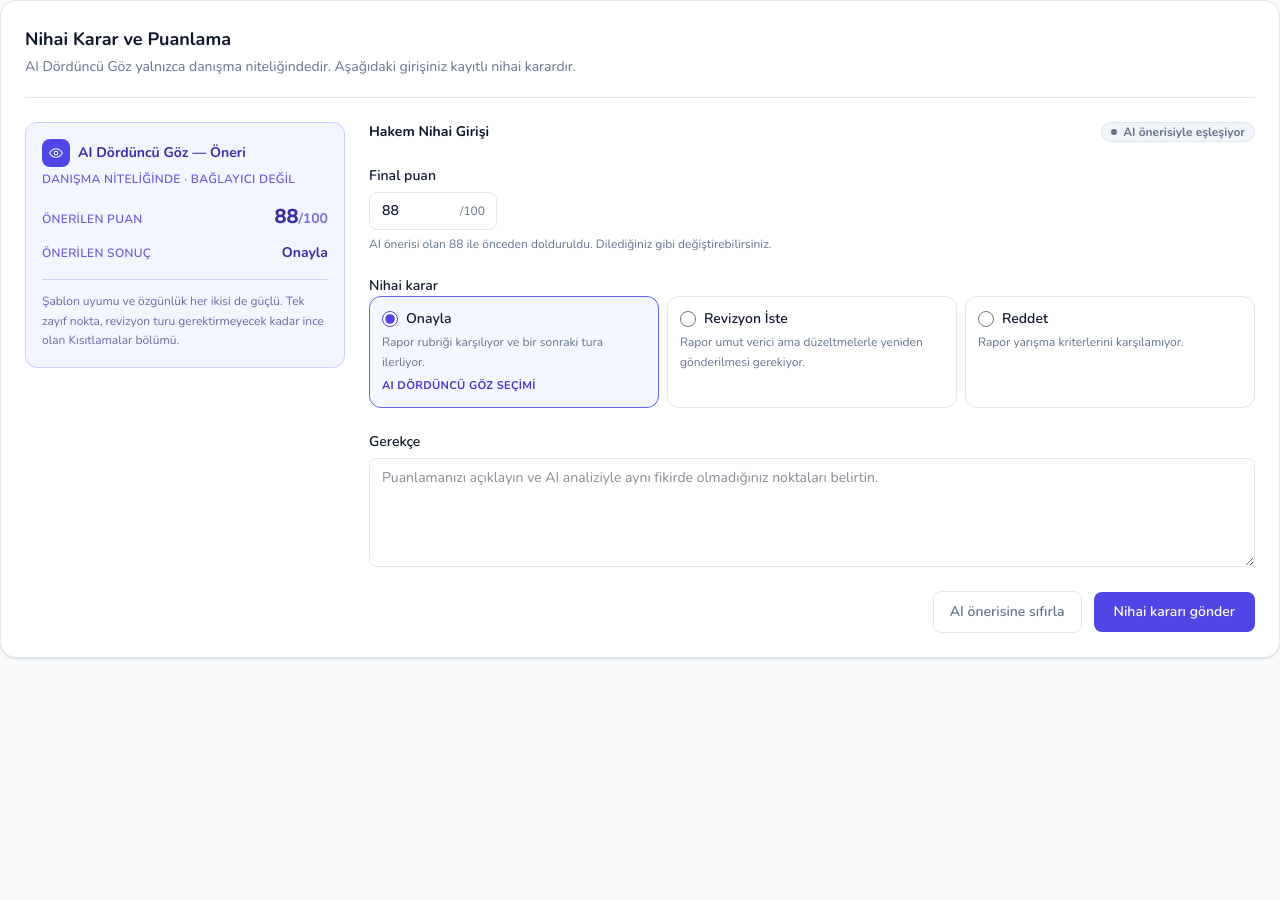
FinalDecisionForm › restores the AI suggestion on reset while keeping the referee's justification
This screenshot has width=1280, height=900.
Replace the text in the number field labelled "Final puan" with "20" at (433, 211), box [369,192,497,230]
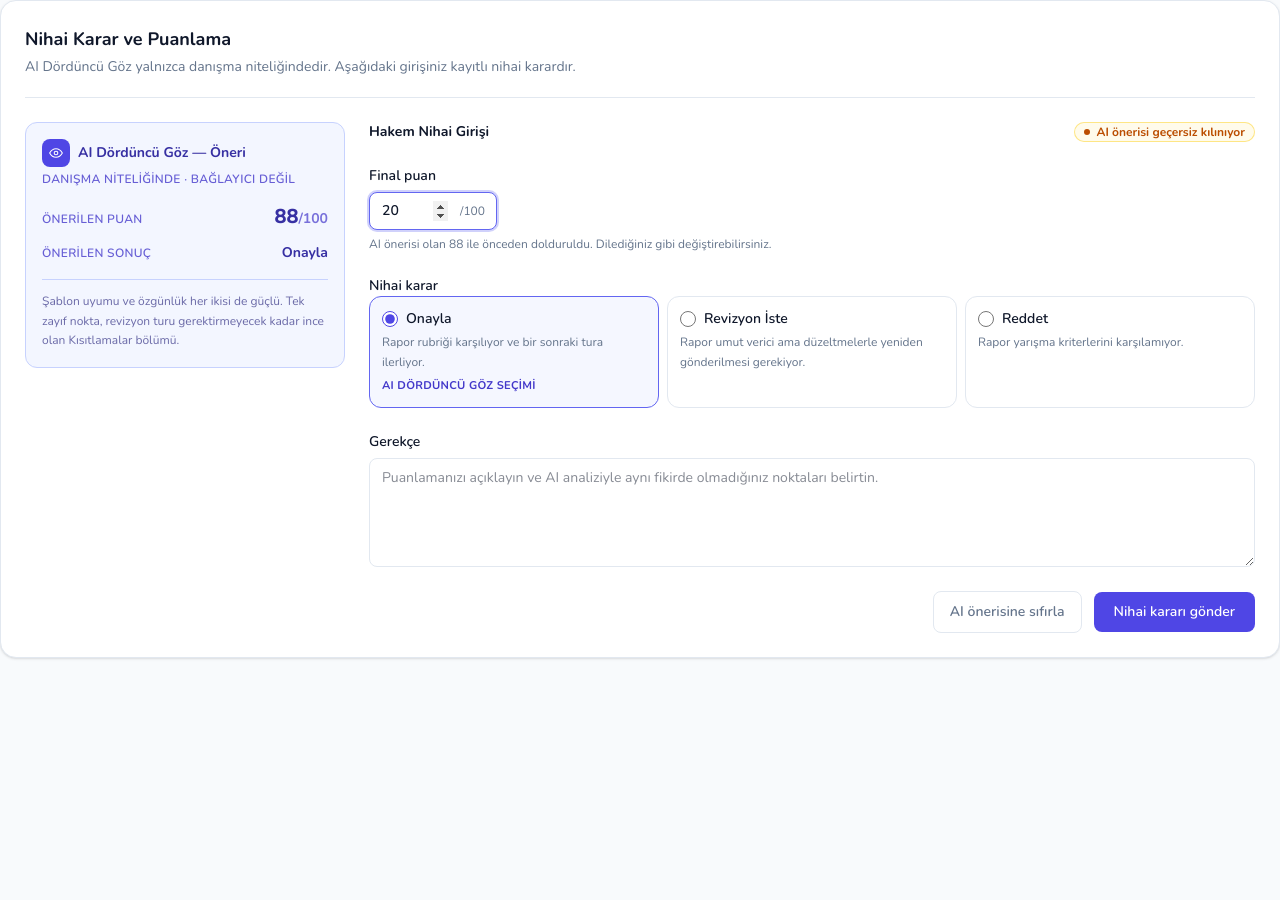
Click the radio button labelled "Reddet Rapor yarışma kriterlerini karşılamıyor." at (986, 319), box [978,311,994,327]
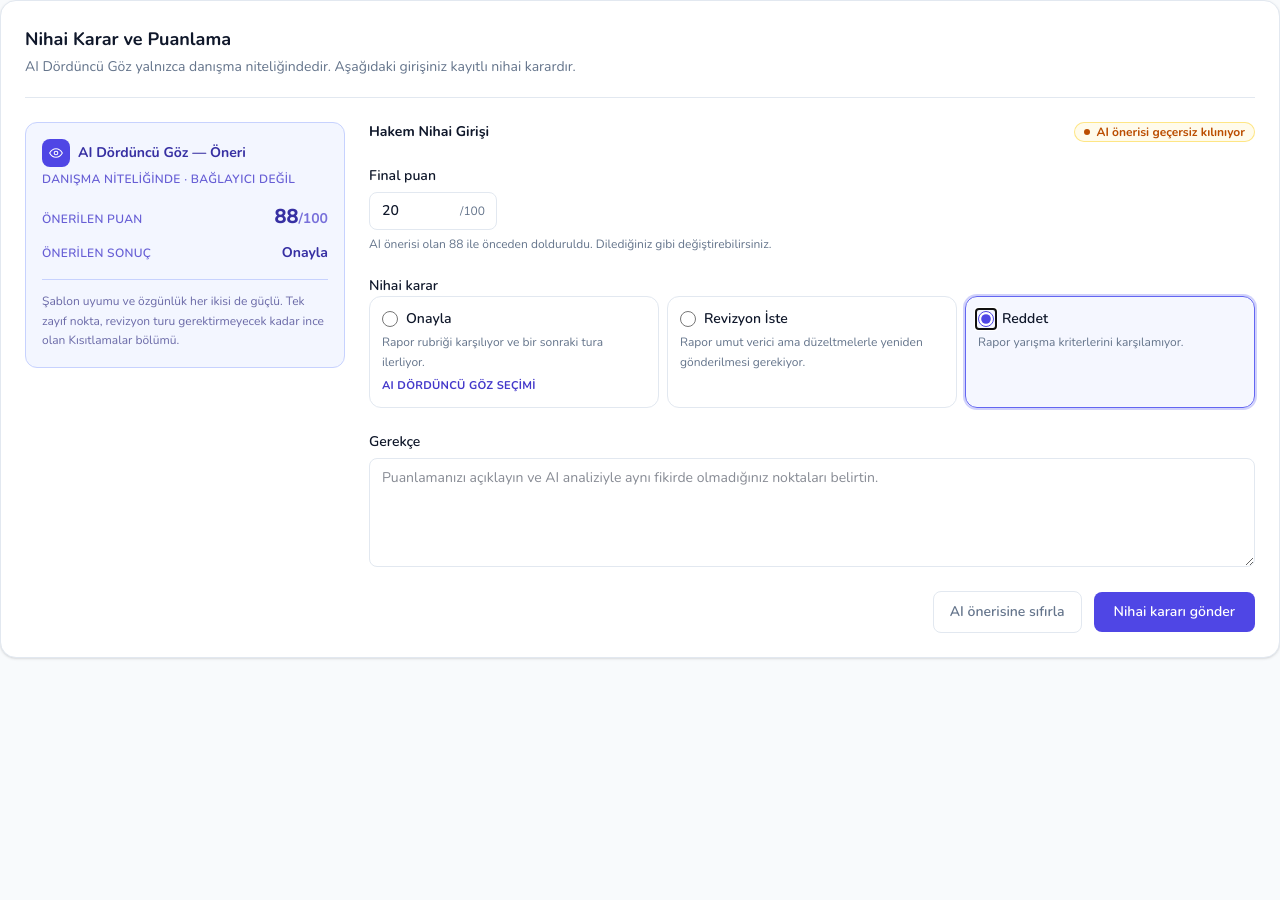
Type "Manually re-read the methodology section; the limitations gap is more serious than the engine judged." into the text box labelled "Gerekçe" at (812, 512), box [369,458,1255,567]
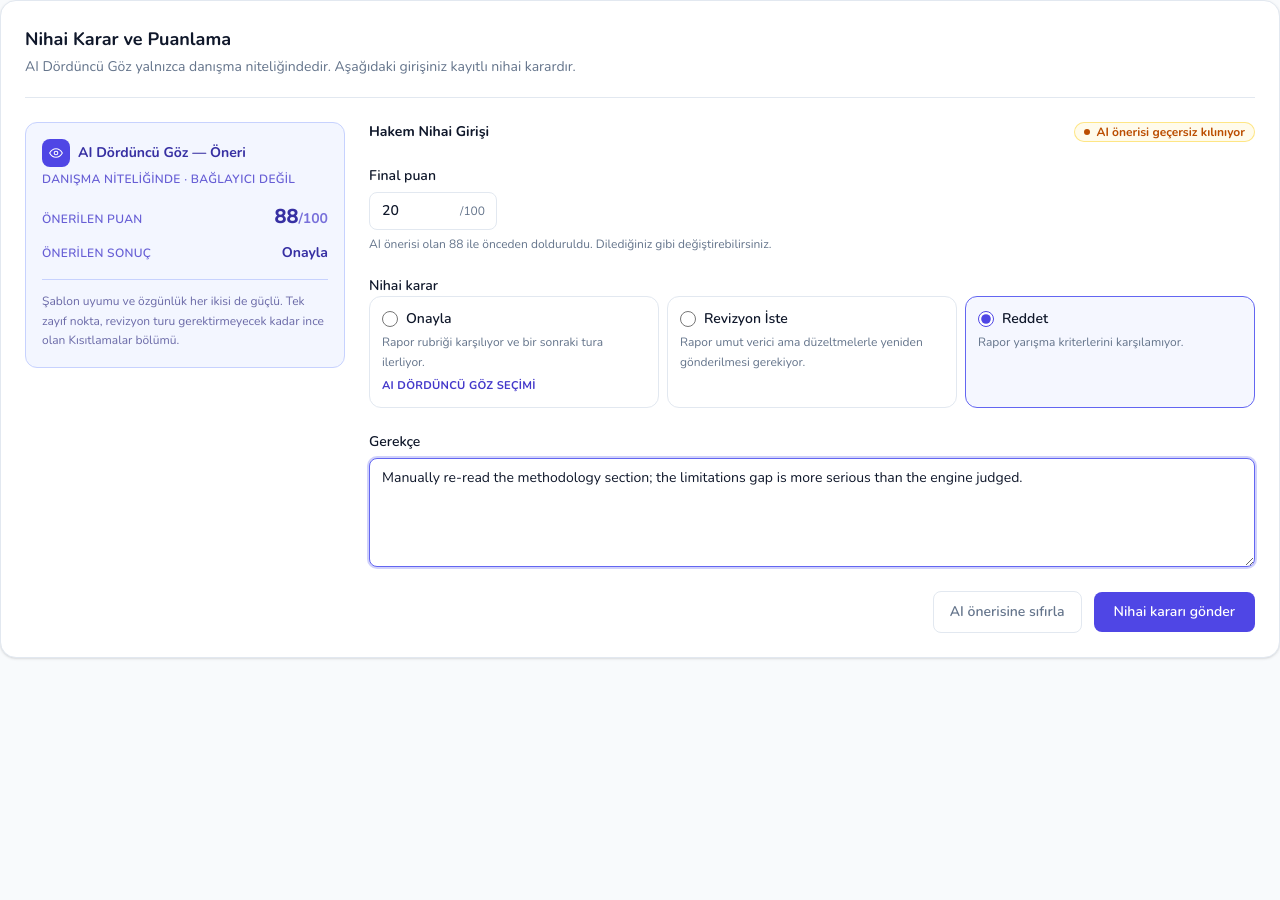
Expected: the element with test id "override-indicator" is shown, [1074,122,1255,142]
Click the button "AI önerisine sıfırla" at (1007, 612), box [933,591,1082,633]
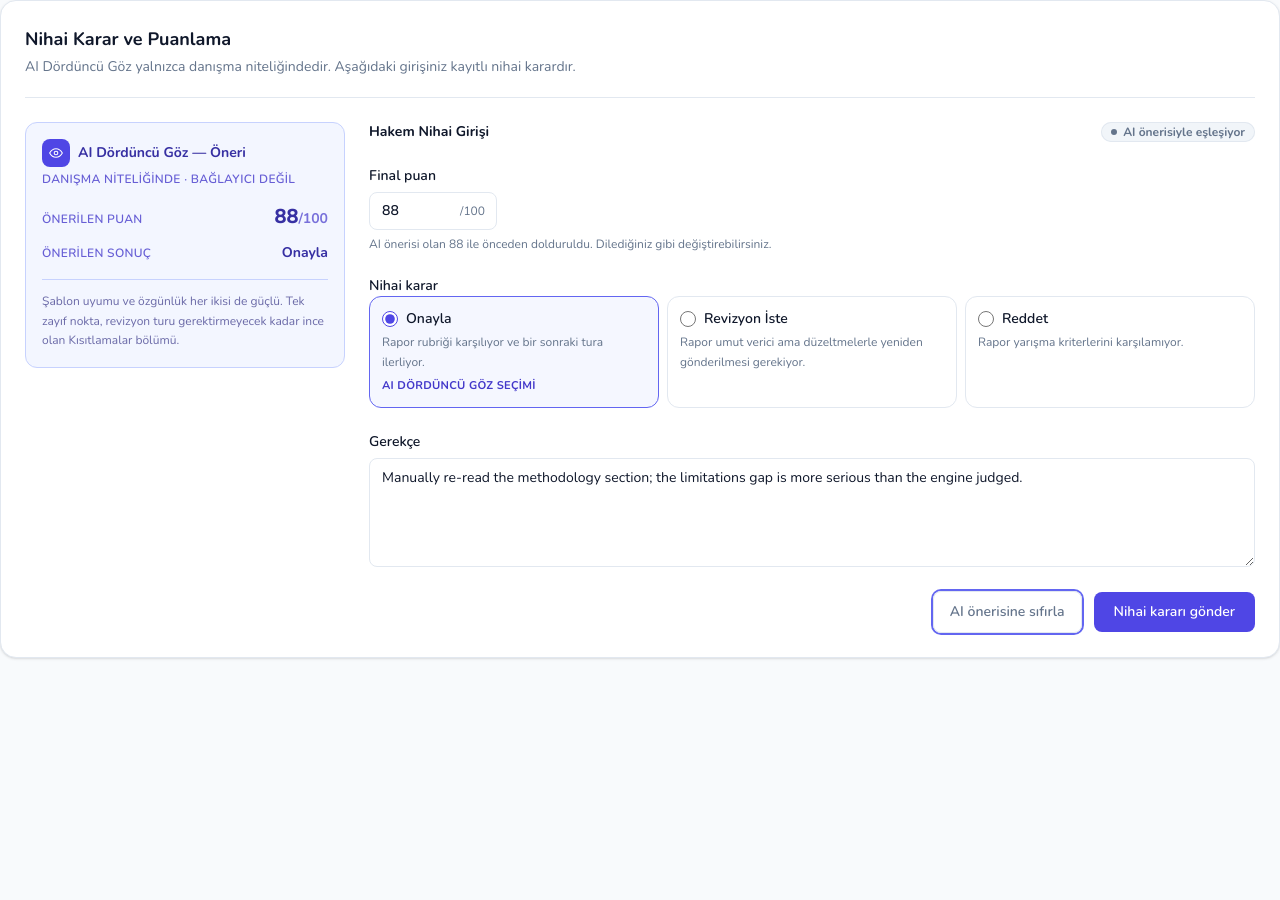
Expected: the number field labelled "Final puan" holds "88", [369,192,497,230]
Expected: the radio button labelled "Onayla" is checked, [382,311,398,327]
Expected: the element with test id "agreement-indicator" is shown, [1101,122,1255,142]
